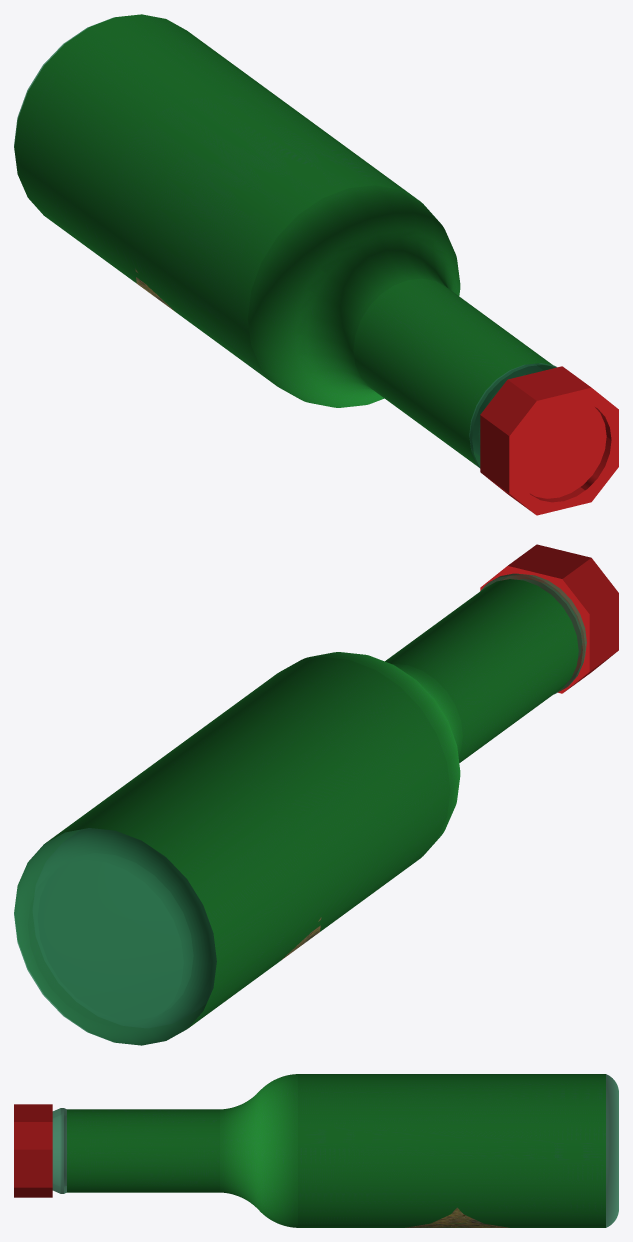
The model's file is model_scale.obj.
3 views of the same model, one above another, from view 1: azimuth 30°, elevation 25°; view 2: azimuth 150°, elevation 25°; view 3: azimuth 270°, elevation 25° (orthographic). The views are drawn at different scales.
Parts seen in each view (by area): view 1: mesh5_mesh5-geometry, mesh1_mesh1-geometry; view 2: mesh5_mesh5-geometry, mesh6_mesh6-geometry, mesh1_mesh1-geometry; view 3: mesh5_mesh5-geometry, mesh1_mesh1-geometry, mesh4_mesh4-geometry.
Part boxes in pixels (bbox=[...]): mesh5_mesh5-geometry: bbox=[14, 14, 556, 468]; mesh1_mesh1-geometry: bbox=[480, 366, 618, 515]; mesh5_mesh5-geometry: bbox=[14, 573, 586, 1045]; mesh6_mesh6-geometry: bbox=[33, 828, 216, 1027]; mesh1_mesh1-geometry: bbox=[480, 544, 618, 693]; mesh5_mesh5-geometry: bbox=[52, 1074, 618, 1227]; mesh1_mesh1-geometry: bbox=[14, 1104, 52, 1197]; mesh4_mesh4-geometry: bbox=[405, 1207, 509, 1227].
Size of the model in its own units: 0.0367 by 0.0367 by 0.1439.
